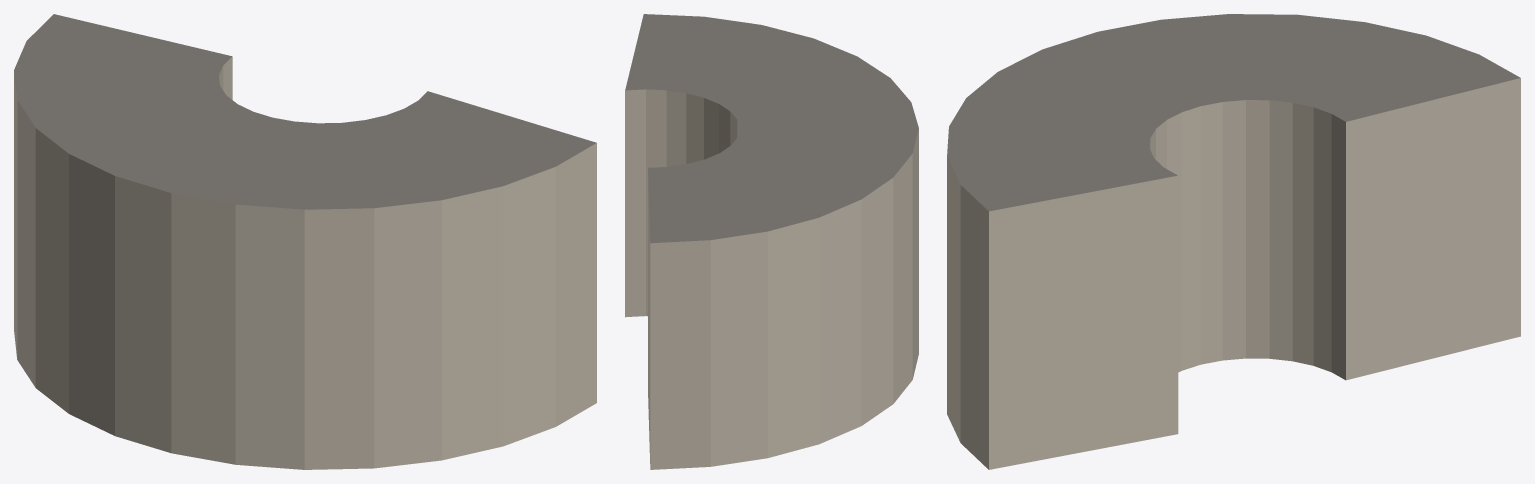
3 views of the same model, side by side, from view 1: azimuth 30°, elevation 25°; view 2: azimuth 150°, elevation 25°; view 3: azimuth 270°, elevation 25° (orthographic). The views are drawn at different scales.
Parts seen in each view (by area): view 1: HP-w859488774; view 2: HP-w859488774; view 3: HP-w859488774.
Part boxes in pixels (bbox=[...]): HP-w859488774: bbox=[14, 14, 596, 469]; HP-w859488774: bbox=[625, 14, 918, 469]; HP-w859488774: bbox=[947, 14, 1520, 469].
Bounding box in the file's own units: 29.48 × 18 × 36.21.
